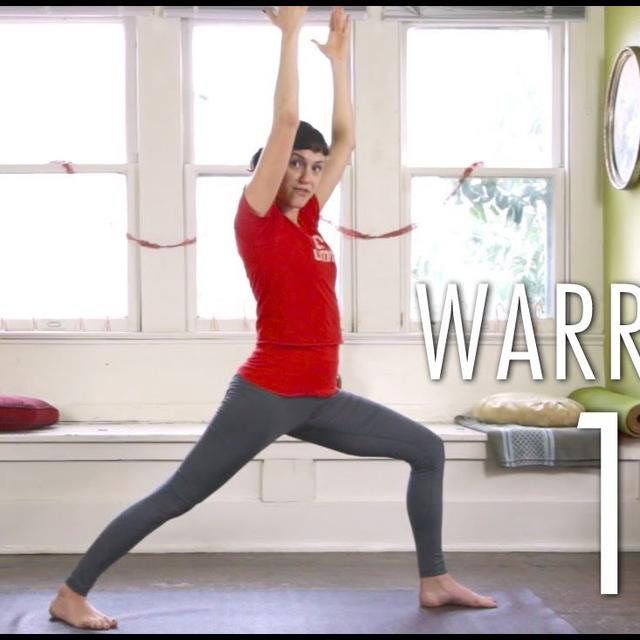Warrior_I: (29, 1, 498, 626)
